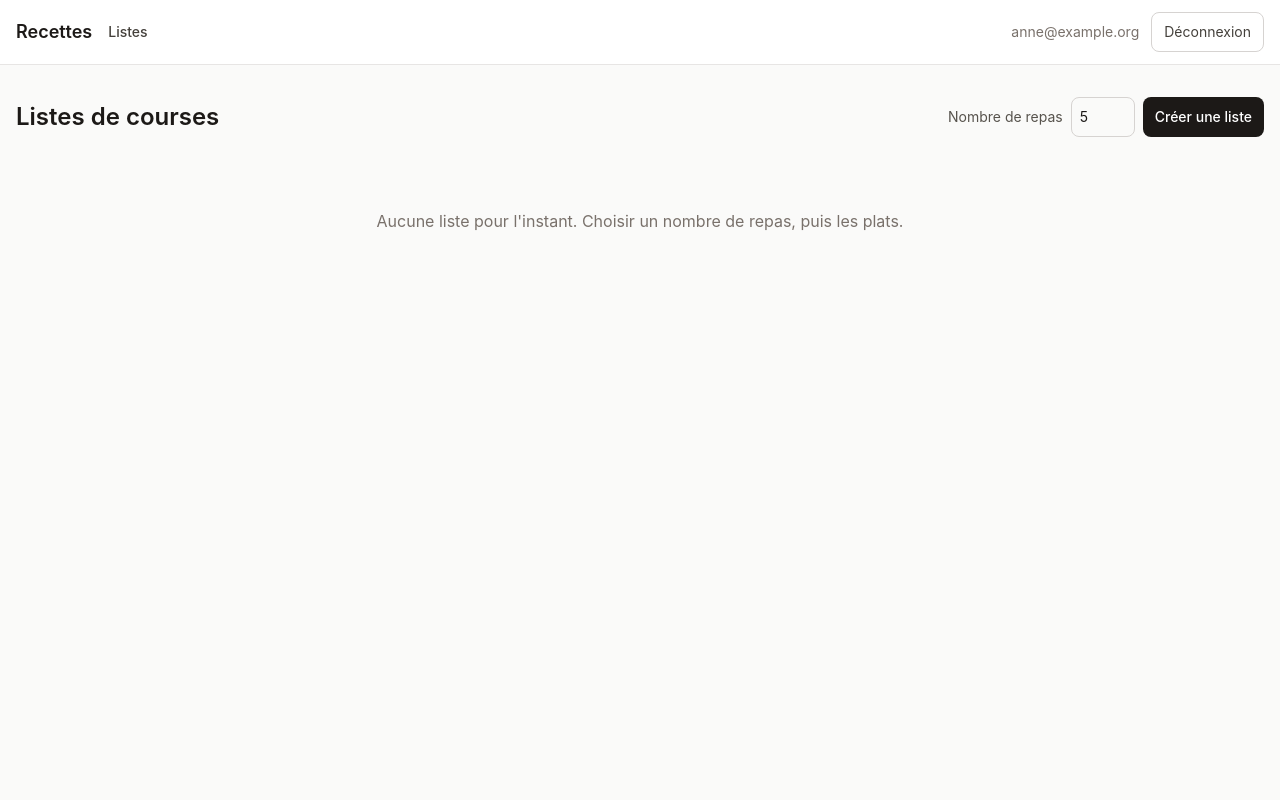
Test: listes de courses › créer avec 0 repas ouvre une préparation vide, impossible à valider
The width and height of the screenshot is (1280, 800).
Check: the text "Aucune liste" is shown, box x1=376 y1=211 x2=903 y2=231
Replace the text in the number field labelled "Nombre de repas" with "0" at (1103, 117), box x1=1071 y1=97 x2=1135 y2=137
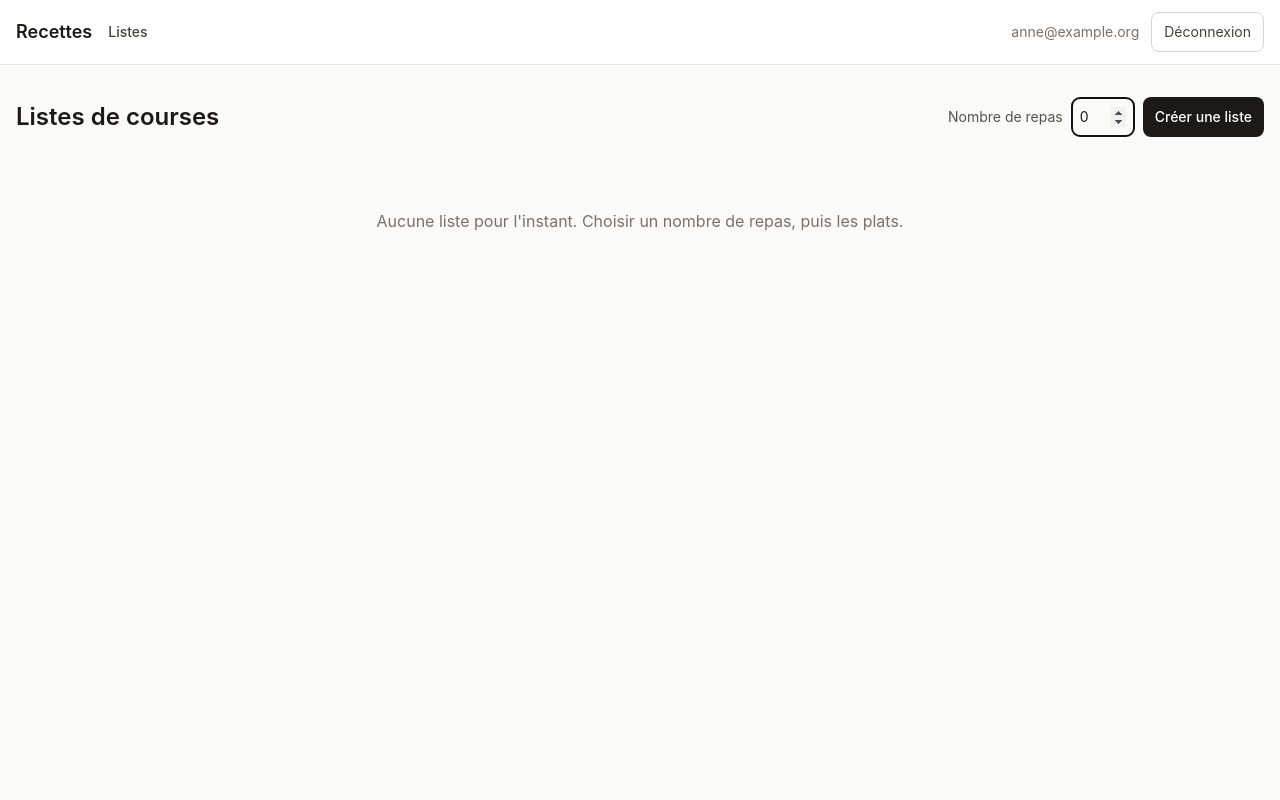
Click the button "Créer une liste" at (1203, 117), box x1=1143 y1=97 x2=1264 y2=137
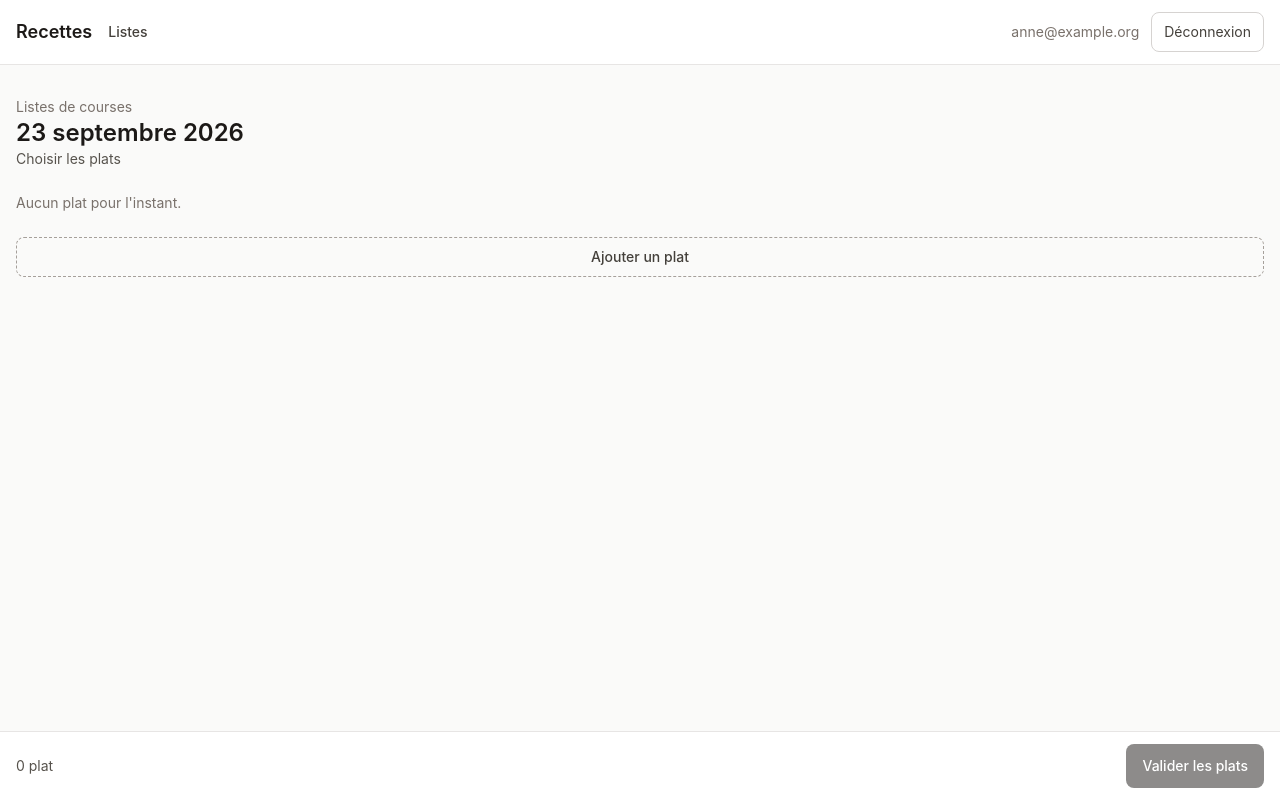
Check: the text "Aucun plat pour l'instant." is shown, box x1=16 y1=194 x2=181 y2=211
Check: the button "Valider les plats" is disabled, box x1=1126 y1=744 x2=1264 y2=788
